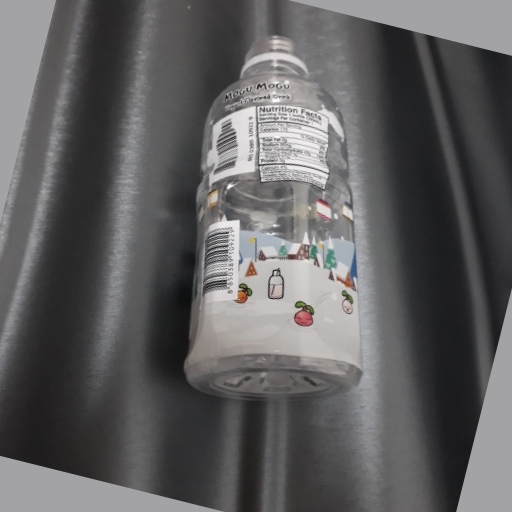Plastic_0: (187, 32, 366, 400)
